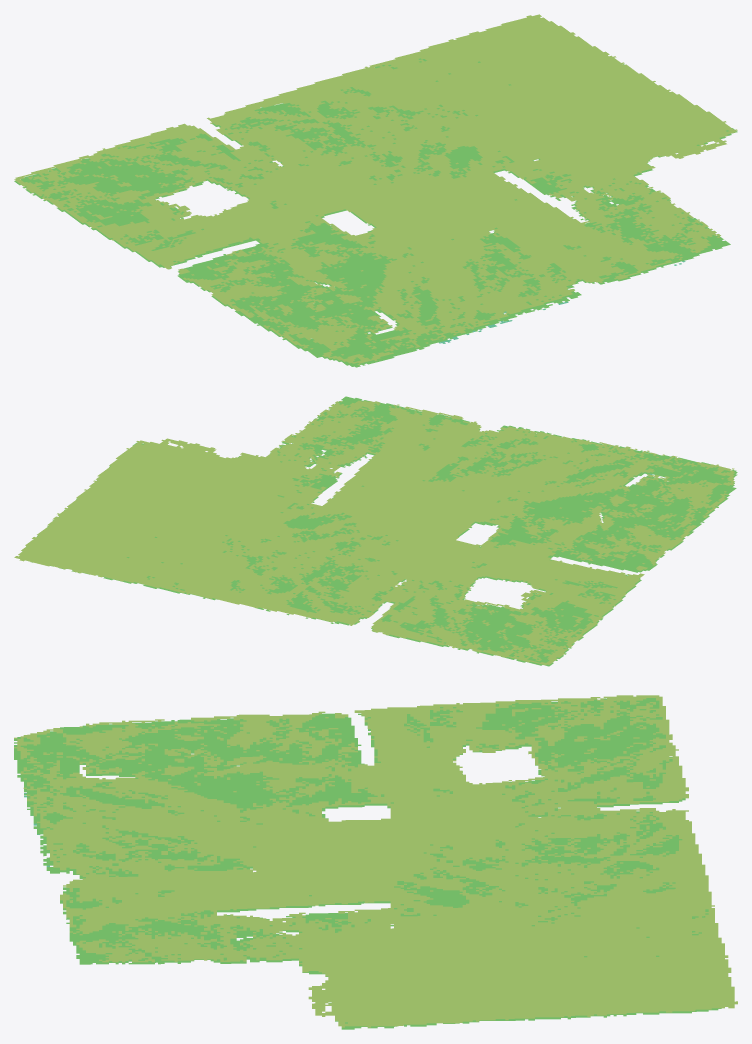
File: magok2-floor.glb
The picture shows the model from 3 angles, top to bottom: view 1: azimuth 30°, elevation 25°; view 2: azimuth 150°, elevation 25°; view 3: azimuth 270°, elevation 25°; orthographic projection. The views are drawn at different scales.
Parts seen in each view (by area): view 1: magok2-floor; view 2: magok2-floor; view 3: magok2-floor.
Boxes of the visible parts, box(x1,y1,x2,y2) form: magok2-floor: box(14, 14, 737, 367); magok2-floor: box(14, 396, 737, 666); magok2-floor: box(14, 695, 737, 1029).
Size of the model in its own units: 5.86 by 0.1129 by 5.31.
